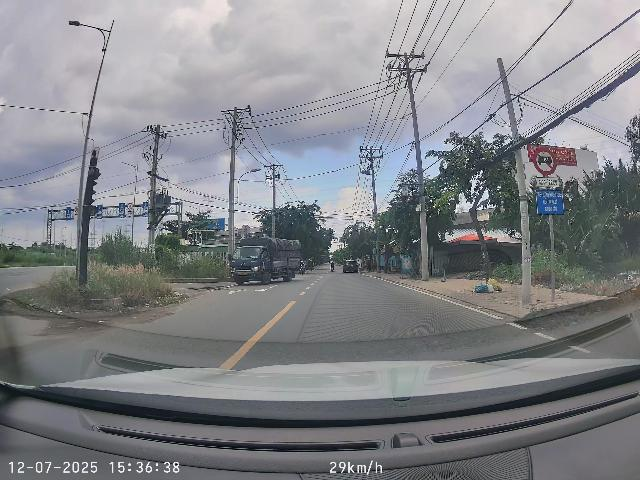106-cam-oto-tai: (533, 147, 557, 175)
